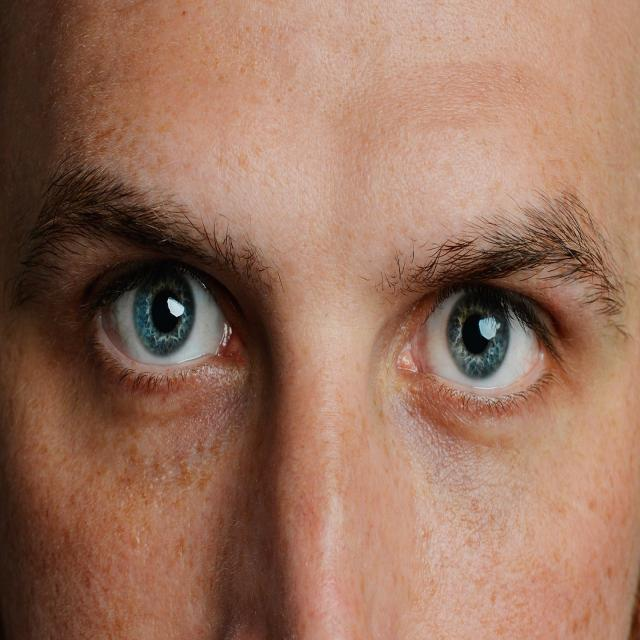Healthy-Eye: (395, 238, 578, 456), (83, 224, 266, 428)
